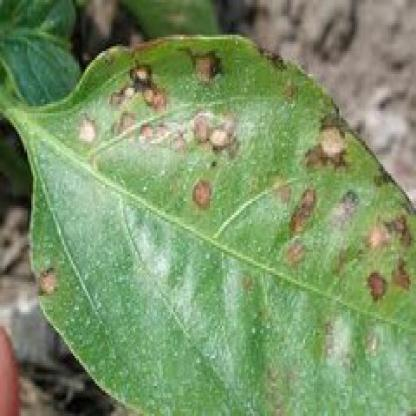bell pepper leaf spot: (24, 30, 413, 414)
